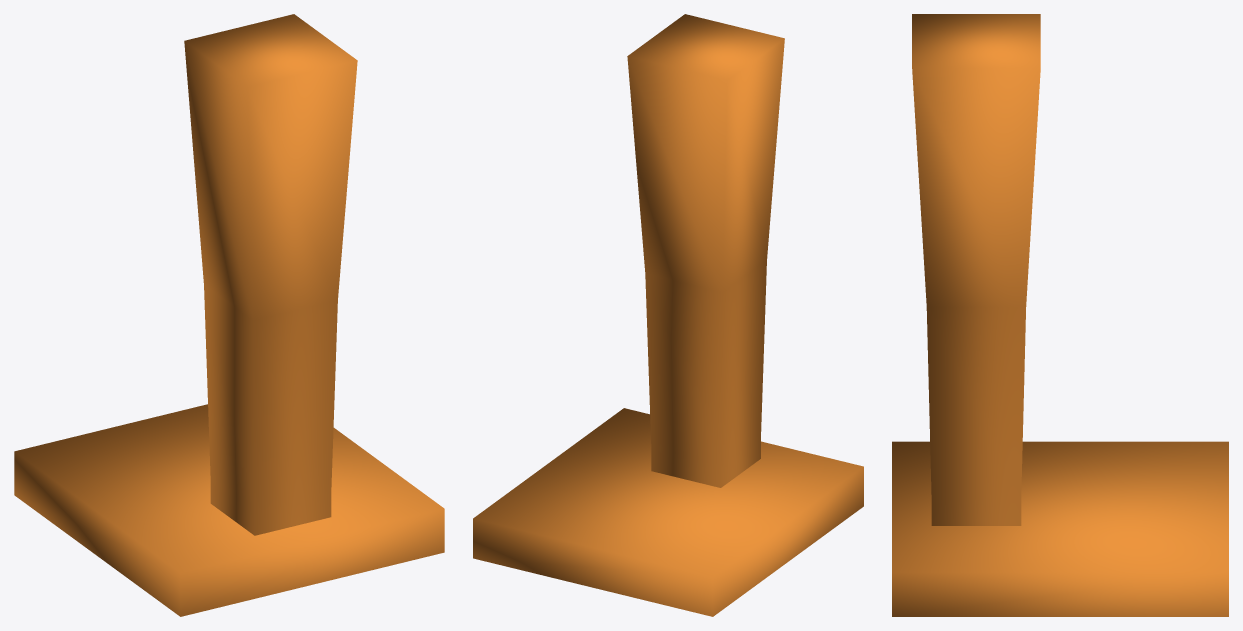
The model's file is animal_duck_leg.obj.
The picture shows the model from 3 angles, left to right: view 1: azimuth 30°, elevation 25°; view 2: azimuth 150°, elevation 25°; view 3: azimuth 270°, elevation 25°; orthographic projection. The views are drawn at different scales.
Visible parts, largest first — view 1: animal_duck_leg_component_01_stage_1, animal_duck_leg_component_02_stage_1; view 2: animal_duck_leg_component_01_stage_1, animal_duck_leg_component_02_stage_1; view 3: animal_duck_leg_component_01_stage_1, animal_duck_leg_component_02_stage_1.
Part boxes in pixels (x1=…): animal_duck_leg_component_01_stage_1: x1=184, y1=14, x2=357, y2=535; animal_duck_leg_component_02_stage_1: x1=14, y1=404, x2=444, y2=616; animal_duck_leg_component_01_stage_1: x1=627, y1=14, x2=784, y2=487; animal_duck_leg_component_02_stage_1: x1=473, y1=408, x2=863, y2=616; animal_duck_leg_component_01_stage_1: x1=912, y1=14, x2=1040, y2=525; animal_duck_leg_component_02_stage_1: x1=892, y1=441, x2=1228, y2=616.
Size of the model in its own units: 0.0634 by 0.1156 by 0.0691.
